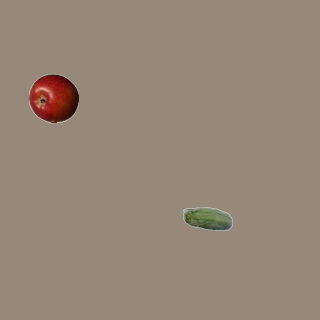Apple Braeburn: (28, 73, 78, 123)
Corn Husk: (182, 195, 232, 245)
